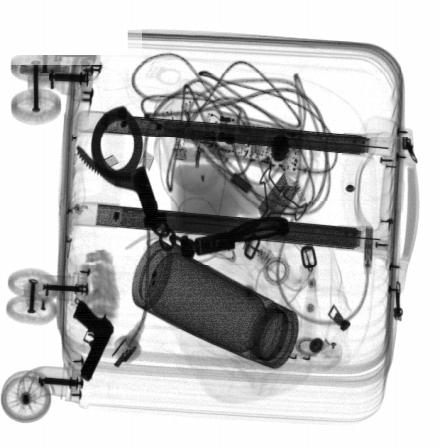Gun: (72, 298, 115, 384)
HandCuffs: (74, 104, 291, 260)
